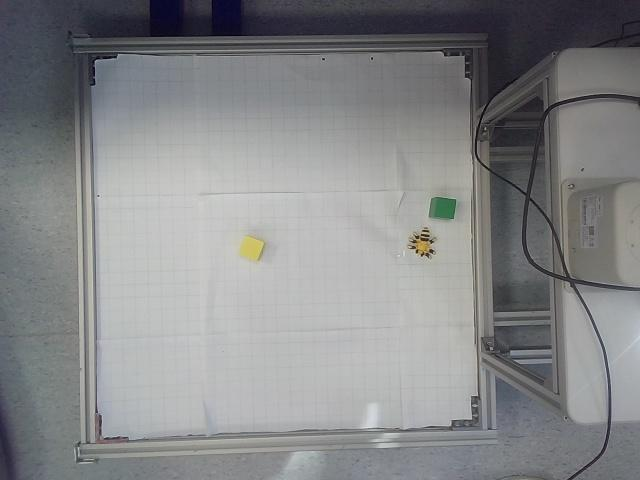frelon: (408, 227, 437, 259)
